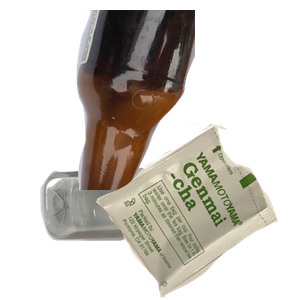glass: (60, 10, 300, 190)
metal: (86, 46, 248, 169)
plastic: (38, 165, 255, 300)
trash: (91, 124, 300, 300)
